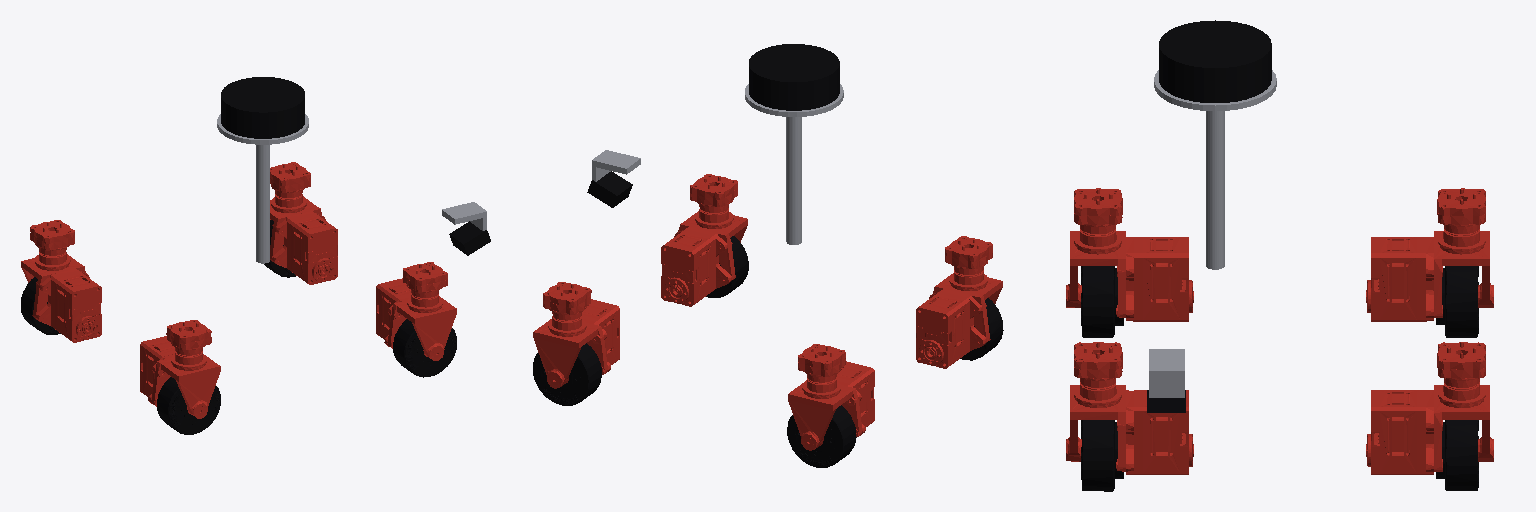
The robot description file, URDF, robot "wcr":
<?xml version="1.0"?>
<!-- Generated by tools/build_webots.py: the Webots WCR (webots/protos/Wcr.proto) for RViz -->
<robot name="wcr">
  <material name="mount"><color rgba="0.62 0.63 0.66 1"/></material>
  <material name="chassis"><color rgba="0.2 0.21 0.24 1"/></material>
  <material name="edf"><color rgba="0.05 0.55 0.88 1"/></material>
  <material name="pod"><color rgba="0.72 0.22 0.18 1"/></material>
  <material name="tire"><color rgba="0.08 0.08 0.09 1"/></material>
  <material name="sensor"><color rgba="0.08 0.08 0.09 1"/></material>
  <link name="base_link"></link>
  <link name="chassis_link">
    <visual><origin xyz="0 0 0" rpy="0 0 0"/><geometry><mesh filename="package://wcr_description/meshes/chassis_body.obj" scale="0.001 0.001 0.001"/></geometry><material name="chassis"/></visual>
  </link>
  <joint name="chassis_joint" type="fixed"><parent link="base_link"/><child link="chassis_link"/><origin xyz="0.00000 0.00000 0.01036" rpy="0 0 0"/></joint>
  <link name="edf_link">
    <visual><origin xyz="0 0 0" rpy="0 0 0"/><geometry><mesh filename="package://wcr_description/meshes/edfProp.stl" scale="0.001 0.001 0.001"/></geometry><material name="edf"/></visual>
  </link>
  <joint name="edf_joint" type="continuous"><parent link="chassis_link"/><child link="edf_link"/><origin xyz="0.00000 0.00000 0.00000" rpy="0 0 0"/><axis xyz="0 0 1"/></joint>
  <link name="imu_link"></link>
  <joint name="imu_joint" type="fixed"><parent link="chassis_link"/><child link="imu_link"/><origin xyz="0.06551 0.00000 0.09800" rpy="0 0 0"/></joint>
  <link name="front_camera_link"></link>
  <link name="front_camera_optical"></link>
  <joint name="front_camera_joint" type="fixed"><parent link="chassis_link"/><child link="front_camera_link"/><origin xyz="0.14885 0.00922 0.06659" rpy="0 0 0"/></joint>
  <joint name="front_camera_optical_joint" type="fixed"><parent link="front_camera_link"/><child link="front_camera_optical"/><origin xyz="0.00000 0.00000 0.00000" rpy="-1.5708 0 -1.5708"/></joint>
  <link name="lidar_link">
    <visual><origin xyz="0 0 -0.012" rpy="0 0 0"/><geometry><cylinder radius="0.035" length="0.024"/></geometry><material name="sensor"/></visual>
  </link>
  <joint name="lidar_joint" type="fixed"><parent link="base_link"/><child link="lidar_link"/><origin xyz="0.00000 -0.04000 0.25000" rpy="0 0 0"/></joint>
  <link name="wall_camera_link">
    <visual><origin xyz="0 0 0" rpy="0 0 0"/><geometry><box size="0.012 0.024 0.024"/></geometry><material name="sensor"/></visual>
  </link>
  <link name="wall_camera_optical"></link>
  <joint name="wall_camera_joint" type="fixed"><parent link="base_link"/><child link="wall_camera_link"/><origin xyz="0.18000 -0.07000 0.09000" rpy="0 1.22173 0"/></joint>
  <joint name="wall_camera_optical_joint" type="fixed"><parent link="wall_camera_link"/><child link="wall_camera_optical"/><origin xyz="0.00000 0.00000 0.00000" rpy="-1.5708 0 -1.5708"/></joint>
  <link name="sensor_mounts">
    <visual><origin xyz="0.0 -0.04 0.1625" rpy="0 0 0"/><geometry><cylinder radius="0.006" length="0.127"/></geometry><material name="mount"/></visual>
  
    <visual><origin xyz="0.0 -0.04 0.224" rpy="0 0 0"/><geometry><cylinder radius="0.038" length="0.004"/></geometry><material name="mount"/></visual>
  
    <visual><origin xyz="0.1745 -0.07 0.1135" rpy="0 0 0"/><geometry><box size="0.031 0.022 0.005"/></geometry><material name="mount"/></visual>
  
    <visual><origin xyz="0.188 -0.07 0.102" rpy="0 0 0"/><geometry><box size="0.004 0.022 0.026"/></geometry><material name="mount"/></visual>
  </link>
  <joint name="sensor_mounts_joint" type="fixed"><parent link="base_link"/><child link="sensor_mounts"/><origin xyz="0.00000 0.00000 0.00000" rpy="0 0 0"/></joint>
  <link name="FL_steering_link">
    <visual><origin xyz="0 0 0" rpy="0 0 1.57080"/><geometry><mesh filename="package://wcr_description/meshes/active_wheel.obj" scale="0.001 0.001 0.001"/></geometry><material name="pod"/></visual>
  </link>
  <joint name="FL_steering_joint" type="revolute"><parent link="base_link"/><child link="FL_steering_link"/><origin xyz="0.11250 0.11250 0.06065" rpy="0 0 0"/><axis xyz="0 0 1"/><limit lower="-1.5708" upper="1.5708" effort="1.9" velocity="5.24"/></joint>
  <link name="FL_wheel_link">
    <visual><origin xyz="0 0 0" rpy="0.00000 1.57080 0.00000"/><geometry><mesh filename="package://wcr_description/meshes/wheel.obj" scale="0.001 0.001 0.001"/></geometry><material name="tire"/></visual>
  </link>
  <joint name="FL_wheel_joint" type="continuous"><parent link="FL_steering_link"/><child link="FL_wheel_link"/><origin xyz="0.00000 0.00000 -0.03525" rpy="0 0 0"/><axis xyz="0 1 0"/></joint>
  <link name="BL_steering_link">
    <visual><origin xyz="0 0 0" rpy="0 0 1.57080"/><geometry><mesh filename="package://wcr_description/meshes/active_wheel.obj" scale="0.001 0.001 0.001"/></geometry><material name="pod"/></visual>
  </link>
  <joint name="BL_steering_joint" type="revolute"><parent link="base_link"/><child link="BL_steering_link"/><origin xyz="-0.11250 0.11250 0.06065" rpy="0 0 0"/><axis xyz="0 0 1"/><limit lower="-1.5708" upper="1.5708" effort="1.9" velocity="5.24"/></joint>
  <link name="BL_wheel_link">
    <visual><origin xyz="0 0 0" rpy="0.00000 1.57080 0.00000"/><geometry><mesh filename="package://wcr_description/meshes/wheel.obj" scale="0.001 0.001 0.001"/></geometry><material name="tire"/></visual>
  </link>
  <joint name="BL_wheel_joint" type="continuous"><parent link="BL_steering_link"/><child link="BL_wheel_link"/><origin xyz="0.00000 0.00000 -0.03525" rpy="0 0 0"/><axis xyz="0 1 0"/></joint>
  <link name="BR_steering_link">
    <visual><origin xyz="0 0 0" rpy="0 0 -1.57080"/><geometry><mesh filename="package://wcr_description/meshes/active_wheel.obj" scale="0.001 0.001 0.001"/></geometry><material name="pod"/></visual>
  </link>
  <joint name="BR_steering_joint" type="revolute"><parent link="base_link"/><child link="BR_steering_link"/><origin xyz="-0.11250 -0.11250 0.06065" rpy="0 0 0"/><axis xyz="0 0 1"/><limit lower="-1.5708" upper="1.5708" effort="1.9" velocity="5.24"/></joint>
  <link name="BR_wheel_link">
    <visual><origin xyz="0 0 0" rpy="0.00000 0.00000 3.14159"/><geometry><mesh filename="package://wcr_description/meshes/wheel.obj" scale="0.001 0.001 0.001"/></geometry><material name="tire"/></visual>
  </link>
  <joint name="BR_wheel_joint" type="continuous"><parent link="BR_steering_link"/><child link="BR_wheel_link"/><origin xyz="0.00000 0.00000 -0.03525" rpy="0 0 0"/><axis xyz="0 1 0"/></joint>
  <link name="FR_steering_link">
    <visual><origin xyz="0 0 0" rpy="0 0 -1.57080"/><geometry><mesh filename="package://wcr_description/meshes/active_wheel.obj" scale="0.001 0.001 0.001"/></geometry><material name="pod"/></visual>
  </link>
  <joint name="FR_steering_joint" type="revolute"><parent link="base_link"/><child link="FR_steering_link"/><origin xyz="0.11250 -0.11250 0.06065" rpy="0 0 0"/><axis xyz="0 0 1"/><limit lower="-1.5708" upper="1.5708" effort="1.9" velocity="5.24"/></joint>
  <link name="FR_wheel_link">
    <visual><origin xyz="0 0 0" rpy="0.00000 0.00000 3.14159"/><geometry><mesh filename="package://wcr_description/meshes/wheel.obj" scale="0.001 0.001 0.001"/></geometry><material name="tire"/></visual>
  </link>
  <joint name="FR_wheel_joint" type="continuous"><parent link="FR_steering_link"/><child link="FR_wheel_link"/><origin xyz="0.00000 0.00000 -0.03525" rpy="0 0 0"/><axis xyz="0 1 0"/></joint>
</robot>

--- What the picture shows (computed from the rendered views, not written in the file) ---
Views: 3 orthographic renders of the robot side by side, from view 1: azimuth 30°, elevation 25°; view 2: azimuth 150°, elevation 25°; view 3: azimuth 270°, elevation 25°.
Model wcr with 18 links and 17 joints (4 revolute, 5 continuous, 8 fixed), rooted at base_link, posed every joint at zero.
Links seen in each view (by area): view 1: BL_steering_link, FL_steering_link, FR_steering_link, BR_steering_link, lidar_link, sensor_mounts, FR_wheel_link, BR_wheel_link, wall_camera_link, BL_wheel_link; view 2: FR_steering_link, BR_steering_link, BL_steering_link, FL_steering_link, lidar_link, sensor_mounts, FL_wheel_link, BL_wheel_link, wall_camera_link, FR_wheel_link, BR_wheel_link; view 3: FL_steering_link, BL_steering_link, BR_steering_link, FR_steering_link, lidar_link, sensor_mounts, BR_wheel_link, BL_wheel_link, FR_wheel_link, FL_wheel_link, wall_camera_link.
Link boxes in pixels (left/top/right/bottom): BL_steering_link: left=21, top=220, right=101, bottom=342; FL_steering_link: left=270, top=162, right=337, bottom=284; FR_steering_link: left=376, top=262, right=456, bottom=360; BR_steering_link: left=140, top=320, right=220, bottom=418; lidar_link: left=221, top=77, right=304, bottom=138; sensor_mounts: left=217, top=114, right=486, bottom=263; FR_wheel_link: left=393, top=319, right=456, bottom=377; BR_wheel_link: left=157, top=377, right=220, bottom=434; wall_camera_link: left=449, top=221, right=490, bottom=255; BL_wheel_link: left=21, top=277, right=60, bottom=334; FR_steering_link: left=661, top=174, right=747, bottom=306; BR_steering_link: left=916, top=236, right=1002, bottom=368; BL_steering_link: left=788, top=344, right=874, bottom=450; FL_steering_link: left=533, top=282, right=619, bottom=388; lidar_link: left=749, top=44, right=839, bottom=110; sensor_mounts: left=592, top=84, right=843, bottom=244; FL_wheel_link: left=533, top=343, right=601, bottom=405; BL_wheel_link: left=787, top=405, right=856, bottom=467; wall_camera_link: left=587, top=171, right=632, bottom=207; FR_wheel_link: left=706, top=236, right=748, bottom=297; BR_wheel_link: left=960, top=298, right=1003, bottom=360; FL_steering_link: left=1366, top=342, right=1493, bottom=474; BL_steering_link: left=1366, top=188, right=1493, bottom=321; BR_steering_link: left=1066, top=188, right=1193, bottom=321; FR_steering_link: left=1066, top=342, right=1193, bottom=474; lidar_link: left=1159, top=20, right=1271, bottom=102; sensor_mounts: left=1149, top=70, right=1276, bottom=397; BR_wheel_link: left=1081, top=266, right=1123, bottom=337; BL_wheel_link: left=1436, top=266, right=1478, bottom=337; FR_wheel_link: left=1081, top=420, right=1123, bottom=491; FL_wheel_link: left=1436, top=420, right=1478, bottom=490; wall_camera_link: left=1147, top=390, right=1185, bottom=412.
Bounding box of the posed robot: 0.3319 × 0.2648 × 0.25 m (x, y, z).
Meshes: 4 distinct files referenced, 8 mesh visuals loaded (2 OBJ); not drawn: 2 (reference not matched to a file when rendering).
